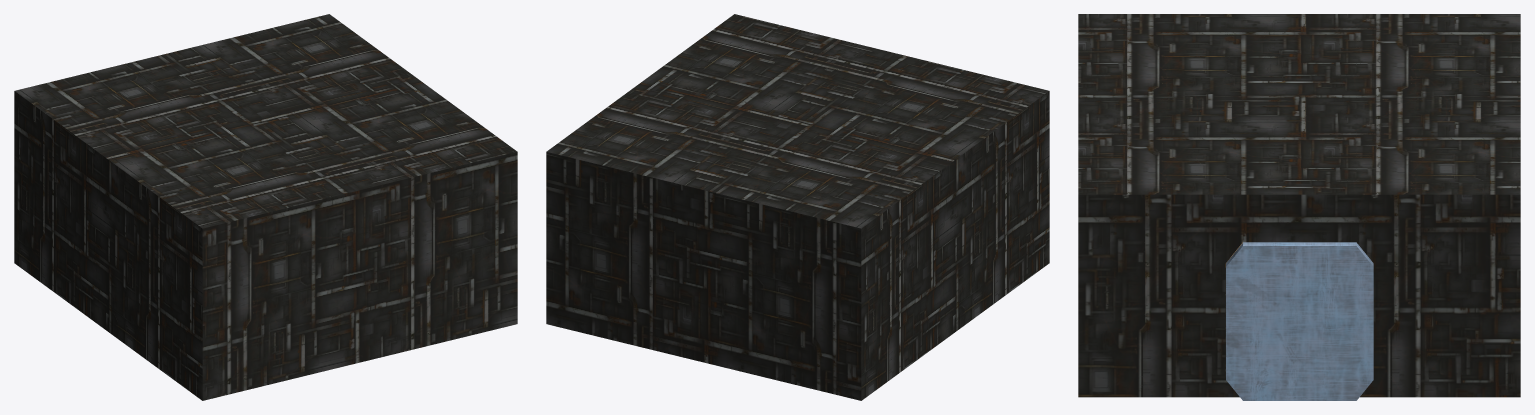
The model's file is crystalRoom.fbx.
3 views of the same model, side by side, from view 1: azimuth 30°, elevation 25°; view 2: azimuth 150°, elevation 25°; view 3: azimuth 270°, elevation 25° (orthographic). The views are drawn at different scales.
Parts seen in each view (by area): view 1: crystalRoom; view 2: crystalRoom; view 3: crystalRoom.
Part boxes in pixels (x1,y1,x2,y2): crystalRoom: (14,14,517,400); crystalRoom: (546,14,1049,400); crystalRoom: (1078,14,1520,400).
Size of the model in its own units: 5.85 by 3 by 5.94.
